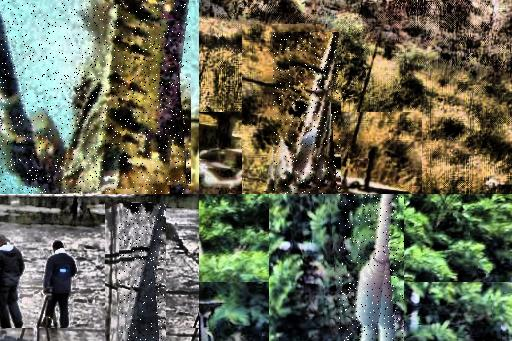tanks: (1, 1, 191, 195), (274, 33, 341, 195), (354, 195, 394, 341), (128, 205, 166, 341)
